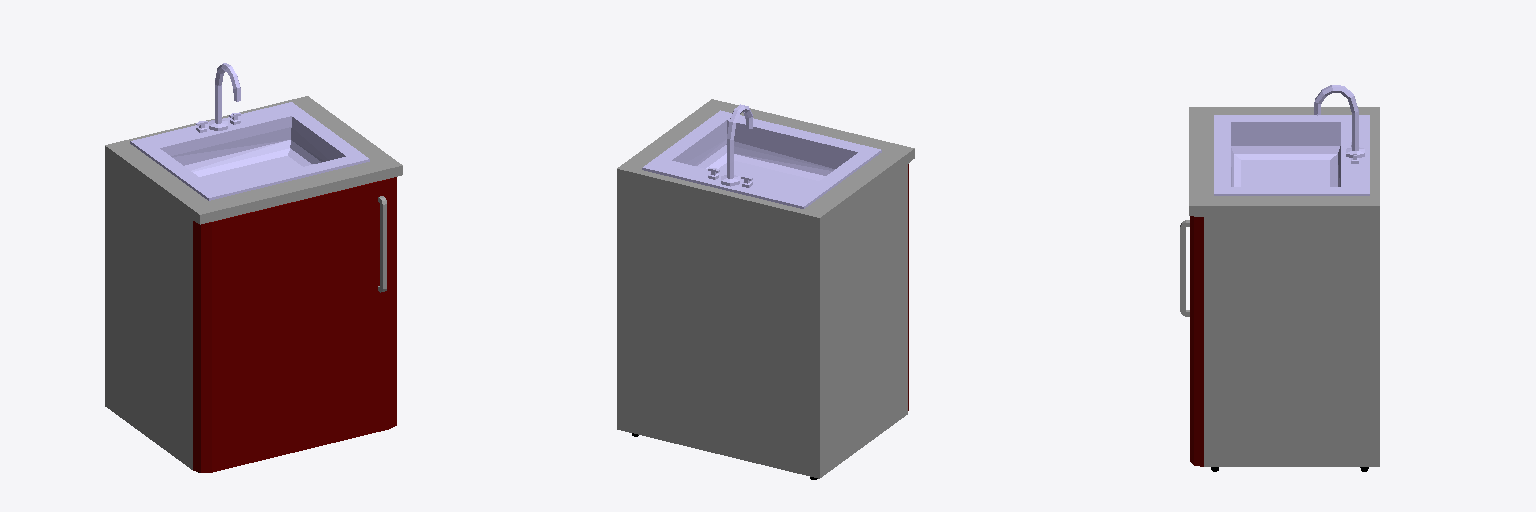
File: sink.obj
3 views of the same model, side by side, from view 1: azimuth 30°, elevation 25°; view 2: azimuth 150°, elevation 25°; view 3: azimuth 270°, elevation 25° (orthographic).
Visible parts, largest first — view 1: Cube.146_Cube.174, Cube.145_Cube.173; view 2: Cube.145_Cube.173; view 3: Cube.145_Cube.173, Cube.146_Cube.174.
Boxes of the visible parts, x1,y1,x2,y2 form: Cube.146_Cube.174: [193, 177, 396, 472]; Cube.145_Cube.173: [105, 63, 402, 472]; Cube.145_Cube.173: [617, 99, 914, 479]; Cube.145_Cube.173: [1189, 85, 1379, 471]; Cube.146_Cube.174: [1180, 216, 1203, 466].
Size of the model in its own units: 0.1152 by 0.185 by 0.0979.